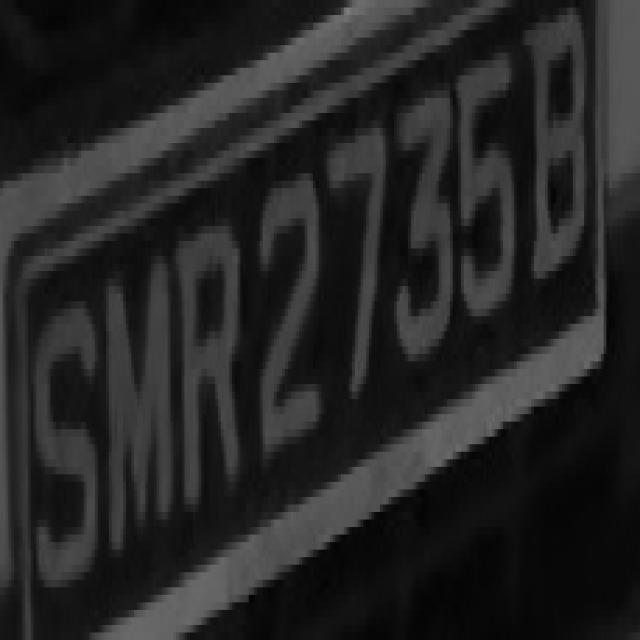2: (243, 173, 333, 467)
3: (383, 90, 461, 384)
5: (452, 53, 522, 354)
7: (324, 143, 389, 437)
B: (523, 15, 598, 309)
M: (98, 233, 182, 550)
R: (176, 196, 249, 520)
S: (22, 286, 104, 610)
